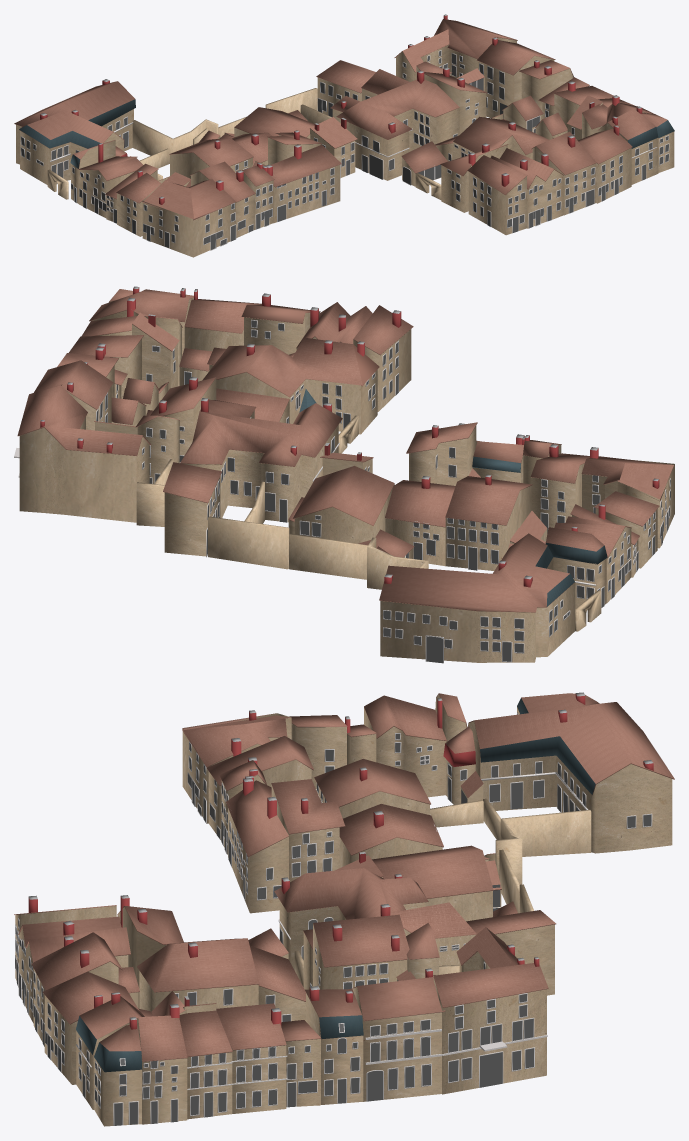
The model's file is ilot31combine.fbx.
3 views of the same model, one above another, from view 1: azimuth 30°, elevation 25°; view 2: azimuth 150°, elevation 25°; view 3: azimuth 270°, elevation 25° (orthographic). The views are drawn at different scales.
Parts seen in each view (by area): view 1: _ILOT31BAT2, _ILOT31BAT4, _ILOT31BAT1, _ILOT31BAT8, _ILOT31BAT7, _ILOT31BAT40, _ILOT31BAT11, _ILOT31BAT36, _ILOT31BAT14, _ILOT31BAT37, _ILOT31BAT39, _ILOT31BAT38 (+25 smaller); view 2: _ILOT31BAT4, _ILOT31BAT11, _ILOT31BAT2, _ILOT31BAT7, _ILOT31BAT3, _ILOT31BAT5, _ILOT31BAT1, _ILOT31BAT33, _ILOT31BAT16, _ILOT31BAT40, _ILOT31BAT17, MUR27 (+28 smaller); view 3: _ILOT31BAT4, _ILOT31BAT11, _ILOT31BAT2, _ILOT31BAT7, _ILOT31BAT14, _ILOT31BAT36, _ILOT31BAT8, _ILOT31BAT10, _ILOT31BAT47, _ILOT31BAT9, _ILOT31BAT48, _ILOT31BAT5 (+24 smaller).
Boxes of the visible parts, x1,y1,x2,y2 form: _ILOT31BAT2: [330, 69, 459, 180]; _ILOT31BAT4: [14, 79, 135, 184]; _ILOT31BAT1: [142, 179, 236, 257]; _ILOT31BAT8: [257, 144, 341, 222]; _ILOT31BAT7: [440, 116, 549, 212]; _ILOT31BAT40: [467, 155, 527, 235]; _ILOT31BAT11: [394, 14, 517, 81]; _ILOT31BAT36: [582, 95, 658, 184]; _ILOT31BAT14: [476, 37, 555, 118]; _ILOT31BAT37: [531, 131, 596, 215]; _ILOT31BAT39: [490, 148, 563, 228]; _ILOT31BAT38: [578, 125, 632, 203]; _ILOT31BAT4: [379, 533, 575, 663]; _ILOT31BAT11: [14, 384, 150, 522]; _ILOT31BAT2: [180, 398, 342, 522]; _ILOT31BAT7: [202, 337, 379, 434]; _ILOT31BAT3: [445, 474, 532, 570]; _ILOT31BAT5: [293, 466, 394, 543]; _ILOT31BAT1: [581, 447, 674, 548]; _ILOT31BAT33: [163, 462, 221, 557]; _ILOT31BAT16: [385, 476, 455, 566]; _ILOT31BAT40: [353, 305, 413, 411]; _ILOT31BAT17: [406, 422, 477, 485]; MUR27: [208, 516, 289, 569]; _ILOT31BAT4: [468, 692, 674, 853]; _ILOT31BAT11: [433, 927, 548, 1094]; _ILOT31BAT2: [274, 868, 476, 989]; _ILOT31BAT7: [117, 895, 259, 1012]; _ILOT31BAT14: [351, 968, 445, 1101]; _ILOT31BAT36: [76, 991, 187, 1124]; _ILOT31BAT8: [226, 769, 288, 913]; _ILOT31BAT10: [313, 914, 409, 989]; _ILOT31BAT47: [216, 1003, 287, 1113]; _ILOT31BAT9: [364, 695, 446, 797]; _ILOT31BAT48: [305, 986, 363, 1104]; _ILOT31BAT5: [372, 845, 493, 921].
Size of the model in its own units: 21.13 by 3.03 by 16.13.
